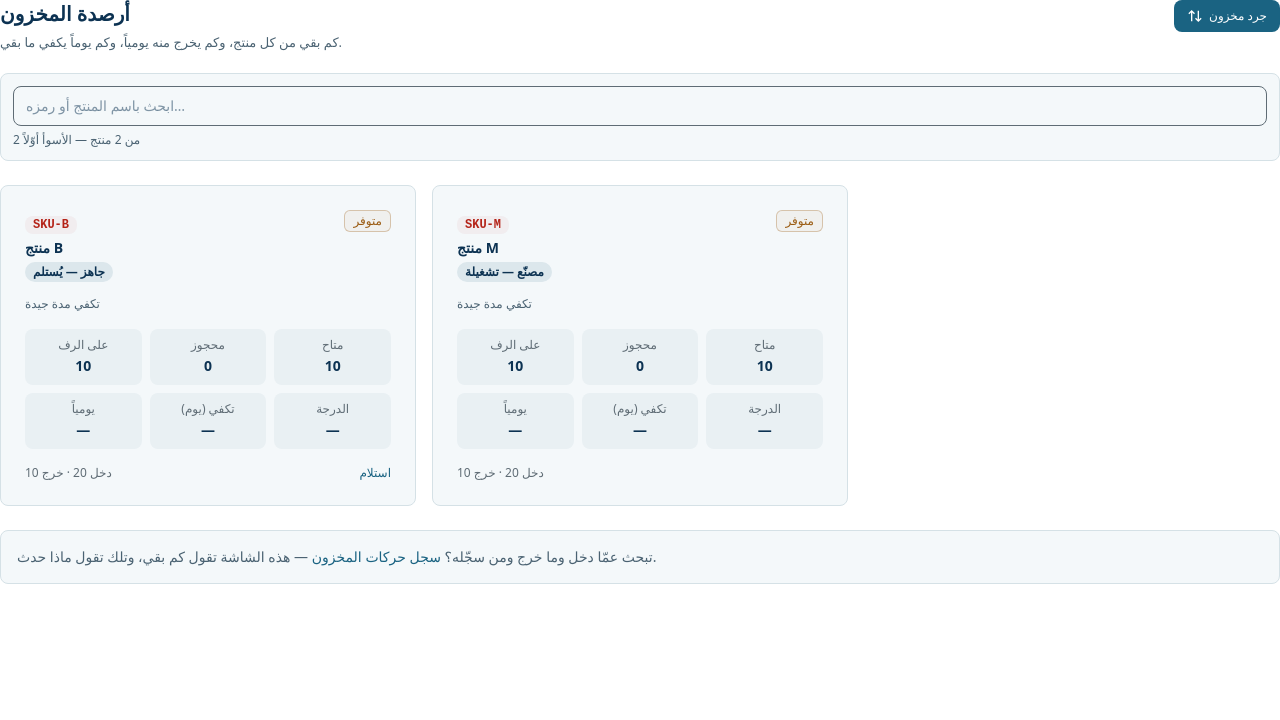
the «استلام» button on the card › saves with a blank price as ABSENT, says what arrived, and closes
Check: the link "منتج B" is shown, box [25, 238, 63, 257]
Click the button "استلام".
click(375, 473)  # box [359, 465, 391, 481]
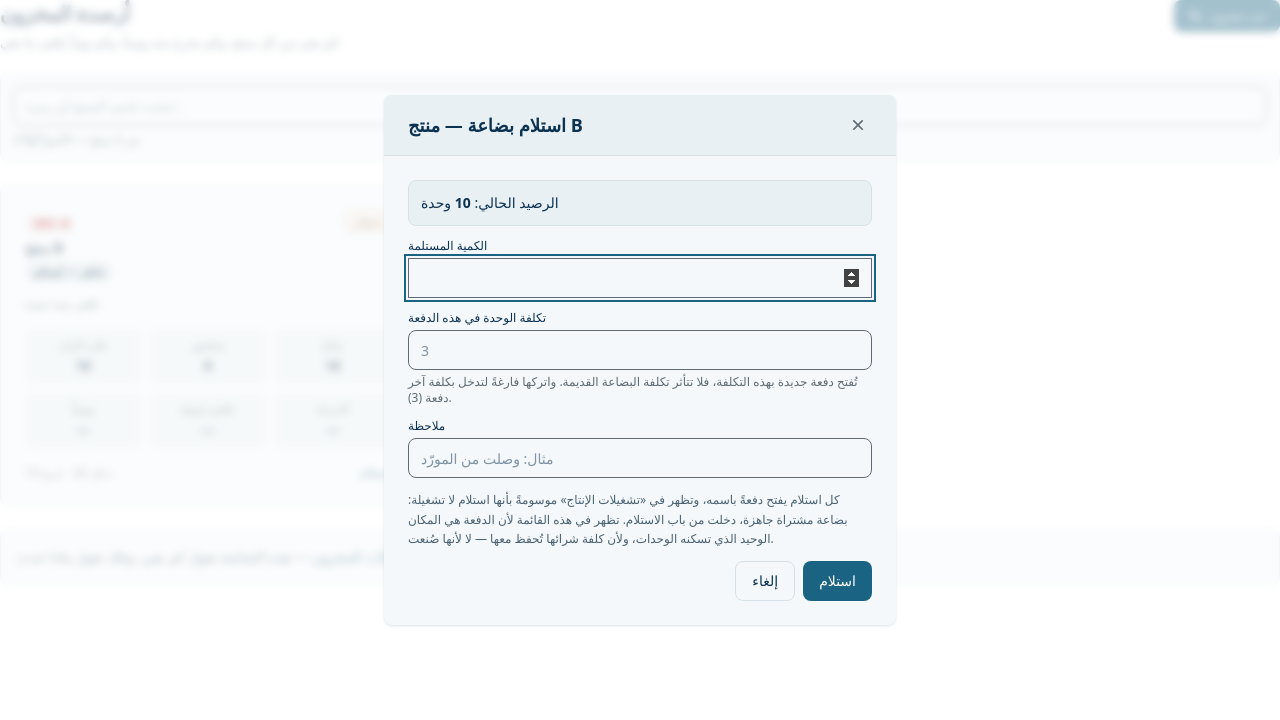
Type "12" into the number field labelled "الكمية المستلمة".
click(640, 278); type("12")  # box [408, 258, 872, 298]
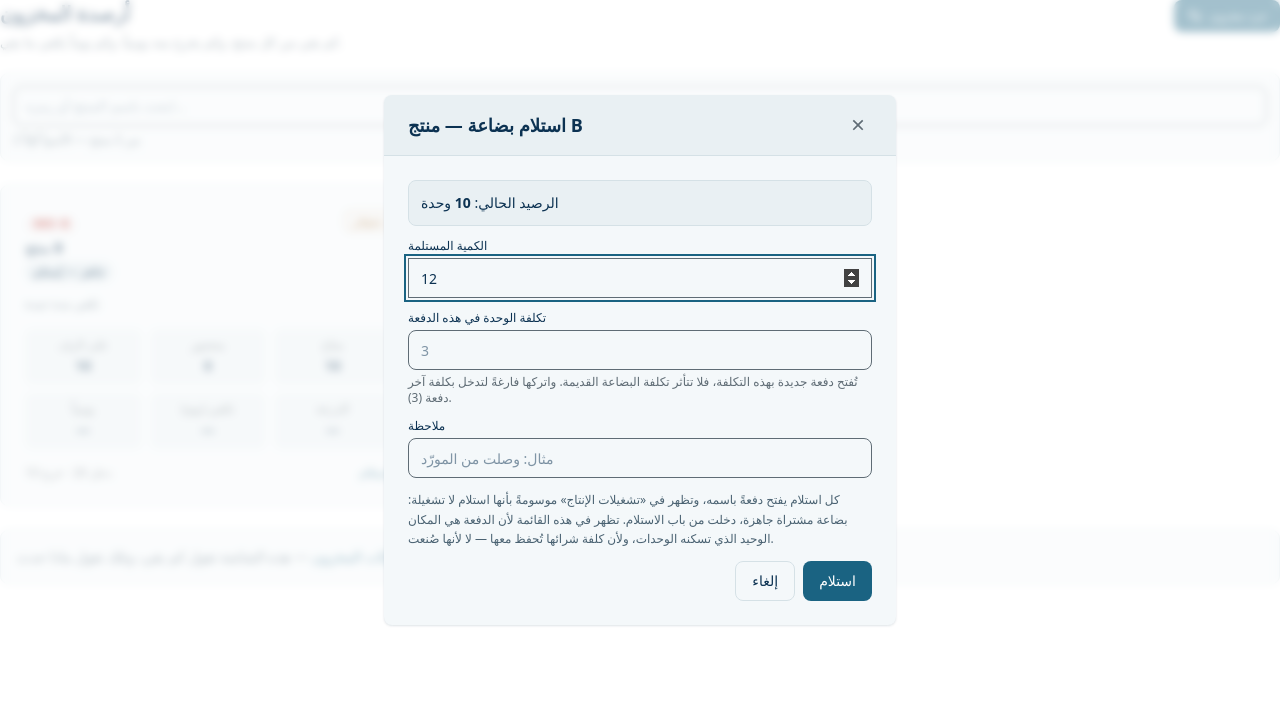
Click the button "استلام".
click(838, 581)  # box [803, 561, 872, 601]
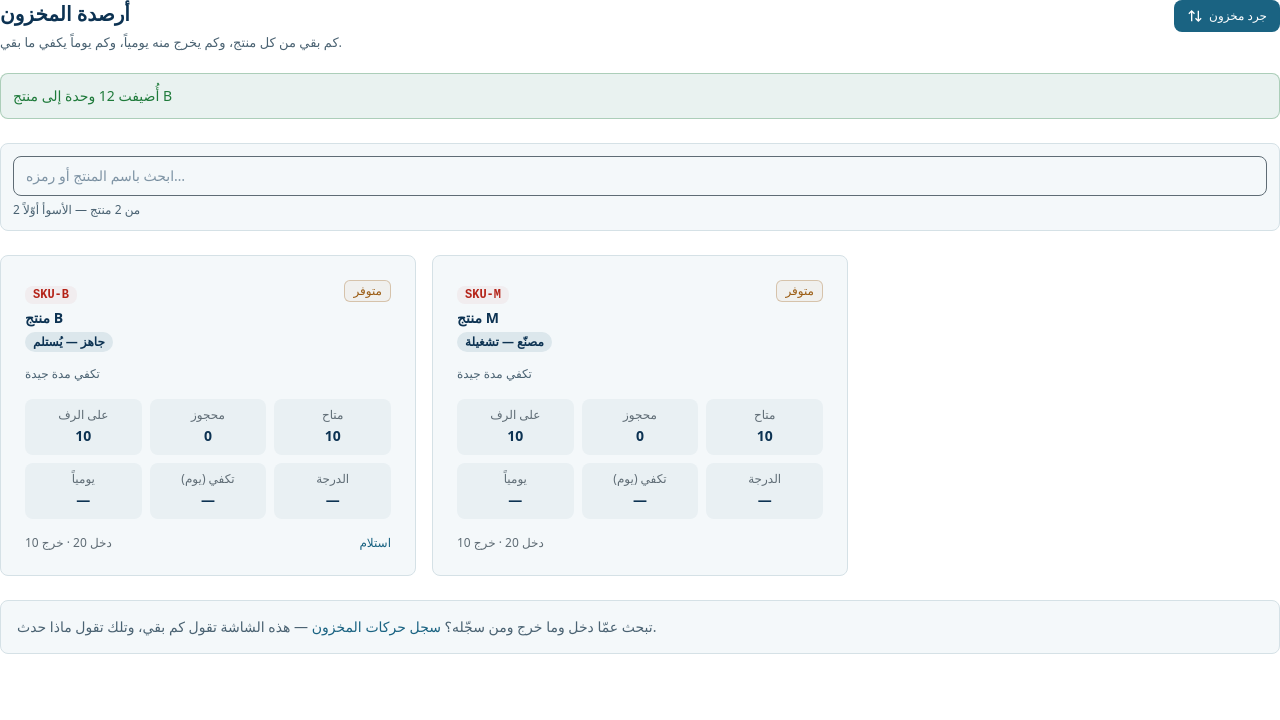
Check: the text "أُضيفت 12 وحدة إلى منتج B" is shown, box [0, 73, 1279, 119]
Check: the heading "استلام بضاعة — منتج B" is gone
